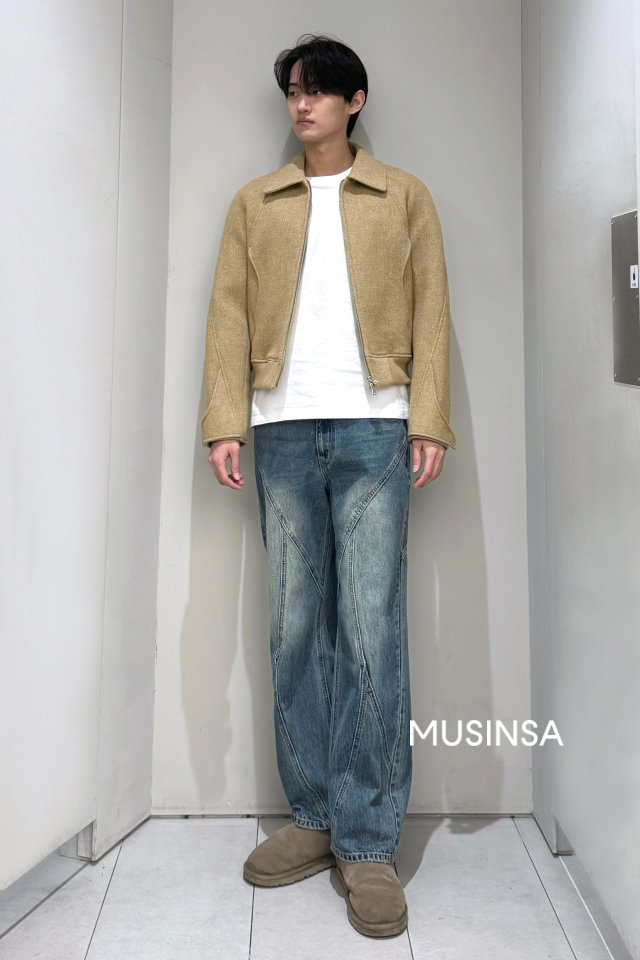Jacket: (183, 143, 467, 444)
Jeans: (252, 420, 431, 863)
Shoes: (242, 815, 424, 947)
